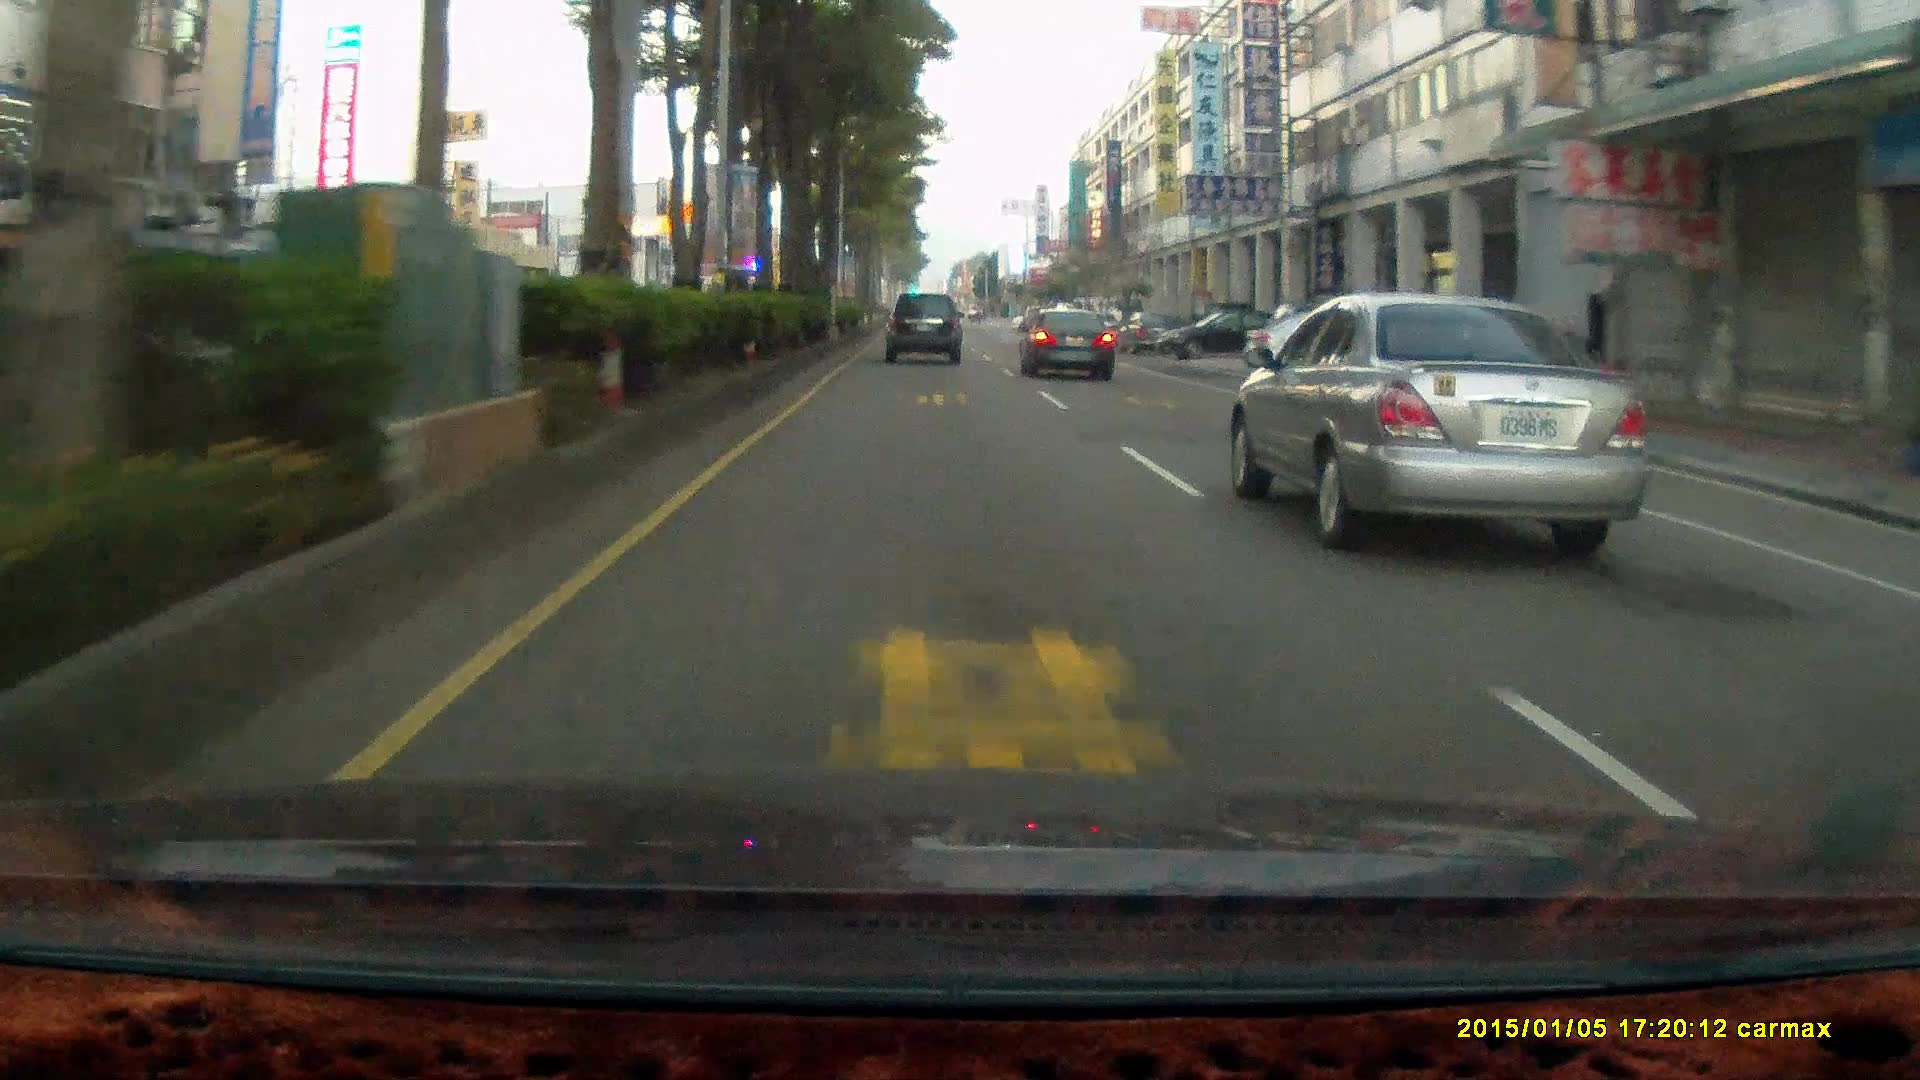vehicle: (1226, 286, 1671, 549), (1451, 316, 1658, 465), (1240, 309, 1437, 386), (1153, 306, 1290, 359), (1018, 309, 1116, 382), (1018, 310, 1117, 381), (884, 291, 967, 367), (884, 291, 964, 364), (1116, 310, 1178, 355)
